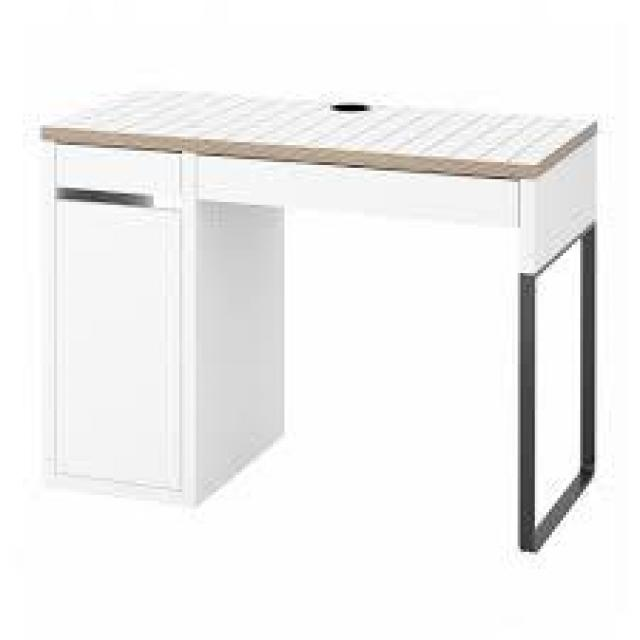desk: (30, 76, 616, 554)
